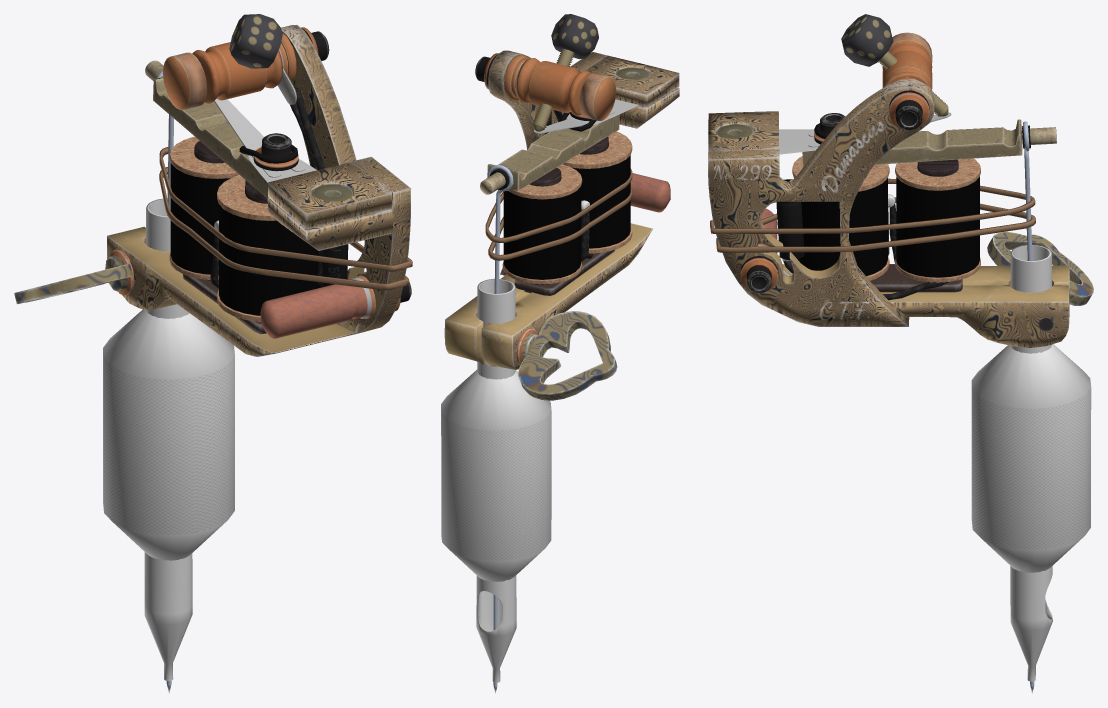
The model's file is damascus.gltf.
The picture shows the model from 3 angles, left to right: view 1: azimuth 30°, elevation 25°; view 2: azimuth 150°, elevation 25°; view 3: azimuth 270°, elevation 25°; orthographic projection. The views are drawn at different scales.
Parts seen in each view (by area): view 1: cylinder_low, pasted__frame_low, pasted__coil2_low, pasted__ring1_low, pasted__coil1_low, pasted__frame2_low, pasted__tube2_low, pasted__bolt_low, pasted__plate2_low, pasted__cube_low, pasted__knob_low, pasted__rubberband2_low (+7 smaller); view 2: cylinder_low, pasted__frame_low, pasted__coil1_low, pasted__knob_low, pasted__coil2_low, pasted__ring1_low, pasted__plate2_low, pasted__tube2_low, pasted__frame2_low, pasted__tube_low, pasted__cube_low, pasted__bolt_low (+8 smaller); view 3: pasted__frame_low, cylinder_low, pasted__coil1_low, pasted__coil2_low, pasted__plate2_low, pasted__tube2_low, pasted__frame2_low, pasted__rubberband2_low, pasted__rubberband1_low, pasted__knob_low, pasted__ring1_low, pasted__tube_low (+7 smaller).
Boxes of the visible parts, bbox=[...] form: cylinder_low: bbox=[103, 309, 234, 560]; pasted__frame_low: bbox=[107, 25, 411, 356]; pasted__coil2_low: bbox=[217, 175, 321, 321]; pasted__ring1_low: bbox=[162, 33, 296, 109]; pasted__coil1_low: bbox=[169, 136, 239, 280]; pasted__frame2_low: bbox=[268, 161, 392, 229]; pasted__tube2_low: bbox=[144, 552, 192, 680]; pasted__bolt_low: bbox=[260, 275, 375, 338]; pasted__plate2_low: bbox=[153, 77, 268, 198]; pasted__cube_low: bbox=[229, 14, 282, 68]; pasted__knob_low: bbox=[14, 249, 134, 304]; pasted__rubberband2_low: bbox=[159, 167, 409, 290]; cylinder_low: bbox=[441, 369, 551, 581]; pasted__frame_low: bbox=[444, 50, 679, 369]; pasted__coil1_low: bbox=[502, 164, 582, 284]; pasted__knob_low: bbox=[516, 311, 617, 400]; pasted__coil2_low: bbox=[562, 131, 632, 253]; pasted__ring1_low: bbox=[504, 55, 616, 120]; pasted__plate2_low: bbox=[487, 114, 619, 190]; pasted__tube2_low: bbox=[476, 575, 516, 682]; pasted__frame2_low: bbox=[585, 55, 679, 106]; pasted__tube_low: bbox=[477, 279, 515, 379]; pasted__cube_low: bbox=[551, 14, 598, 59]; pasted__bolt_low: bbox=[630, 173, 670, 212]; pasted__frame_low: bbox=[708, 79, 1069, 347]; cylinder_low: bbox=[971, 344, 1091, 572]; pasted__coil1_low: bbox=[895, 158, 980, 282]; pasted__coil2_low: bbox=[792, 156, 889, 280]; pasted__plate2_low: bbox=[802, 119, 1022, 166]; pasted__tube2_low: bbox=[1010, 566, 1052, 681]; pasted__frame2_low: bbox=[708, 111, 778, 151]; pasted__rubberband2_low: bbox=[716, 197, 1035, 252]; pasted__rubberband1_low: bbox=[710, 178, 1035, 233]; pasted__knob_low: bbox=[987, 231, 1093, 305]; pasted__ring1_low: bbox=[882, 32, 932, 90]; pasted__tube_low: bbox=[1010, 244, 1052, 353].
Bounding box in the file's own units: 199 × 610 × 316.
1 material, 1 textured.
